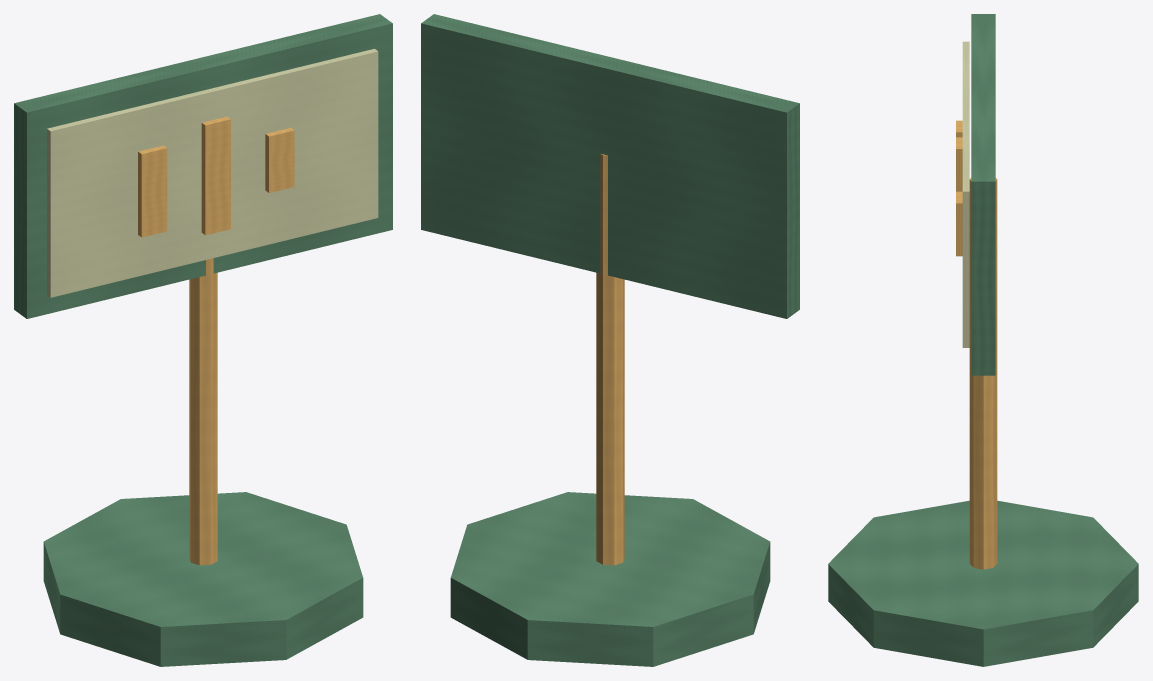
File: atlas100-s001-a11.glb
3 views of the same model, side by side, from view 1: azimuth 30°, elevation 25°; view 2: azimuth 150°, elevation 25°; view 3: azimuth 270°, elevation 25° (orthographic). The views are drawn at different scales.
Visible parts, largest first — view 1: atlas100-s001-a11:part-003, atlas100-s001-a11:part-000, atlas100-s001-a11:part-002, atlas100-s001-a11:part-001, atlas100-s001-a11:part-005, atlas100-s001-a11:part-004, atlas100-s001-a11:part-006; view 2: atlas100-s001-a11:part-002, atlas100-s001-a11:part-000, atlas100-s001-a11:part-001; view 3: atlas100-s001-a11:part-000, atlas100-s001-a11:part-002, atlas100-s001-a11:part-001, atlas100-s001-a11:part-003, atlas100-s001-a11:part-006.
Part boxes in pixels (x1,y1,x2,y2): atlas100-s001-a11:part-003: (47,48,378,297); atlas100-s001-a11:part-000: (43,492,363,666); atlas100-s001-a11:part-002: (14,14,392,318); atlas100-s001-a11:part-001: (189,258,217,565); atlas100-s001-a11:part-005: (201,116,230,235); atlas100-s001-a11:part-004: (138,145,167,237); atlas100-s001-a11:part-006: (265,127,294,192); atlas100-s001-a11:part-002: (421,14,799,318); atlas100-s001-a11:part-000: (450,492,770,666); atlas100-s001-a11:part-001: (596,154,624,565); atlas100-s001-a11:part-000: (828,500,1138,666); atlas100-s001-a11:part-002: (971,14,995,375); atlas100-s001-a11:part-001: (969,178,997,569); atlas100-s001-a11:part-003: (962,41,969,347); atlas100-s001-a11:part-006: (956,191,962,256).
Size of the model in its own units: 1.15 by 1.61 by 0.9.
3 materials, 3 textured.
